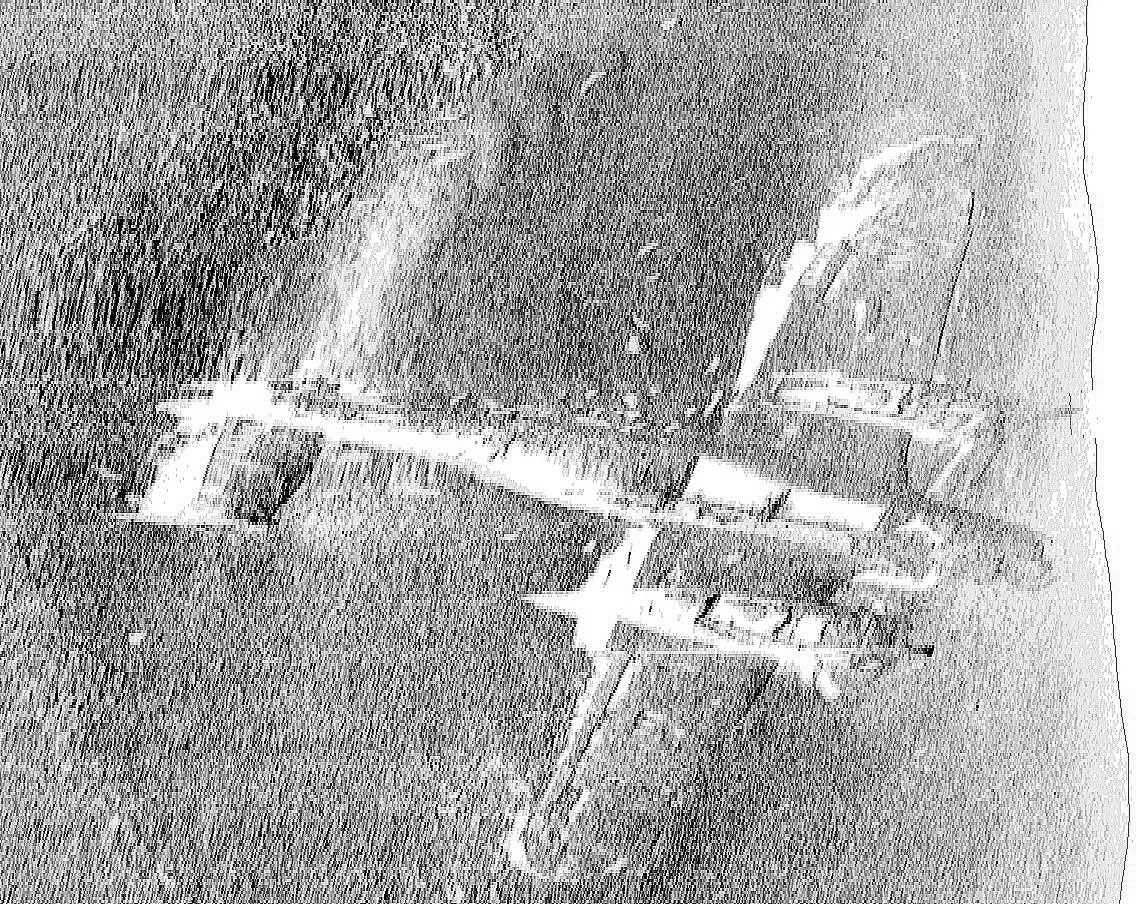plane: (200, 135, 1021, 880)
